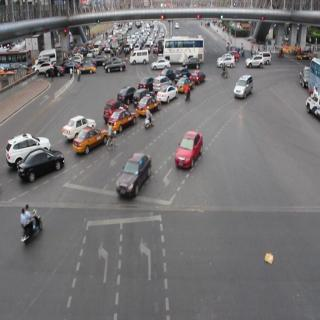BigCar: (158, 37, 204, 63)
Car: (115, 154, 151, 200), (16, 150, 63, 182), (173, 130, 203, 172), (5, 132, 42, 160), (59, 115, 94, 137), (73, 132, 108, 150), (110, 110, 136, 132), (234, 76, 253, 102), (43, 58, 64, 80), (137, 96, 159, 115), (103, 60, 126, 76), (116, 83, 134, 102), (191, 66, 207, 87), (159, 84, 175, 104), (216, 51, 234, 68), (246, 56, 265, 72), (177, 74, 192, 92), (80, 60, 96, 76), (130, 52, 148, 65), (151, 58, 167, 71)
